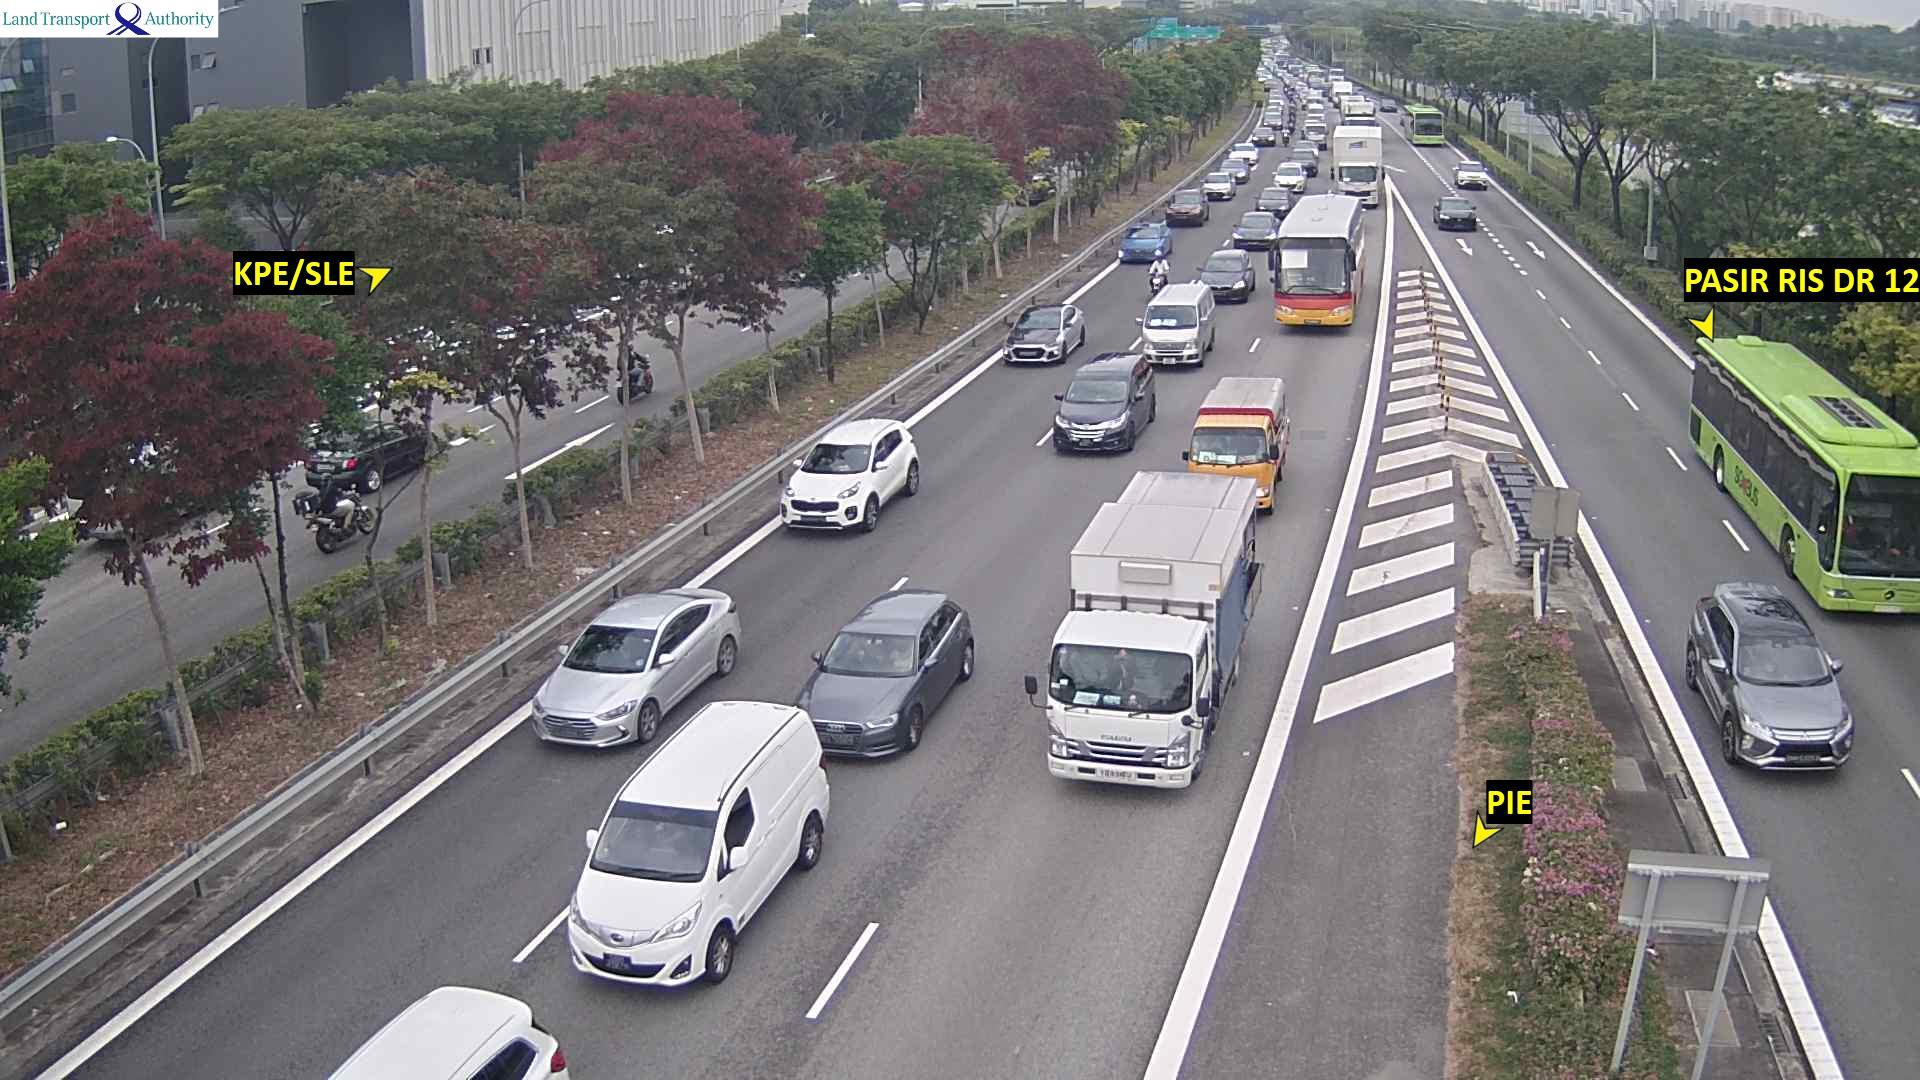bus: (1687, 331, 1919, 615), (1266, 191, 1366, 328), (1400, 103, 1444, 145)
cars: (564, 698, 829, 989), (527, 585, 741, 749), (793, 575, 975, 760), (1683, 579, 1854, 771), (326, 982, 568, 1077), (778, 415, 920, 533), (1051, 349, 1156, 454), (303, 415, 430, 493), (1135, 280, 1217, 367), (1001, 302, 1085, 367), (1192, 247, 1255, 302), (1116, 219, 1172, 262), (1229, 208, 1280, 251), (1163, 187, 1209, 225), (1431, 194, 1477, 229), (1254, 185, 1290, 219), (1273, 160, 1307, 193), (1452, 158, 1487, 189), (1199, 171, 1236, 200), (1338, 95, 1375, 123), (1288, 142, 1319, 175), (1218, 156, 1249, 185), (1226, 140, 1257, 167), (1247, 125, 1275, 146), (1379, 98, 1396, 112)
motorcycle: (291, 473, 377, 554), (617, 344, 653, 405), (1146, 258, 1168, 294), (1279, 124, 1292, 146)
trucks: (1023, 468, 1262, 790), (1182, 375, 1288, 514), (1331, 123, 1382, 207)
